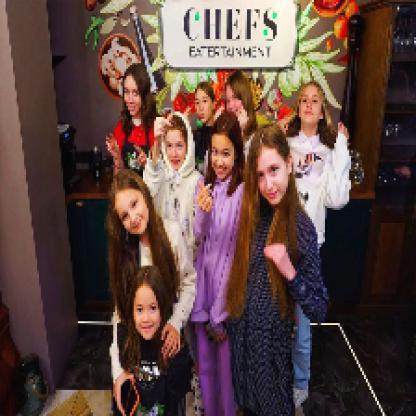child: (113, 265, 196, 416)
